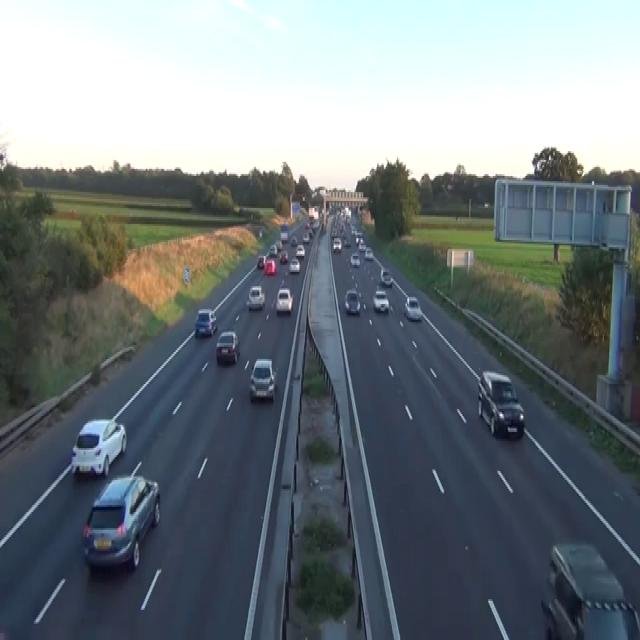Car: (540, 540, 639, 638), (82, 462, 160, 571), (541, 596, 639, 638), (70, 418, 127, 478), (477, 370, 525, 439), (249, 357, 276, 402), (215, 330, 240, 364), (194, 308, 217, 338), (246, 284, 265, 310), (404, 295, 422, 320), (275, 288, 293, 313), (344, 288, 360, 315), (372, 288, 389, 311), (380, 266, 392, 284), (263, 258, 276, 274), (289, 256, 300, 272), (350, 250, 360, 266), (332, 236, 341, 252), (296, 244, 305, 258), (364, 246, 373, 260), (257, 254, 265, 268), (279, 251, 288, 263), (355, 231, 363, 244), (269, 244, 277, 256), (312, 219, 320, 229), (358, 240, 365, 251), (290, 235, 297, 245), (276, 240, 282, 251), (350, 224, 356, 235), (302, 233, 309, 242), (344, 238, 350, 247), (305, 220, 310, 230), (322, 222, 326, 233), (308, 228, 313, 236), (355, 234, 359, 243), (259, 228, 262, 238), (331, 230, 335, 237)
Truck: (290, 201, 300, 219), (308, 204, 319, 220), (279, 224, 288, 242)
